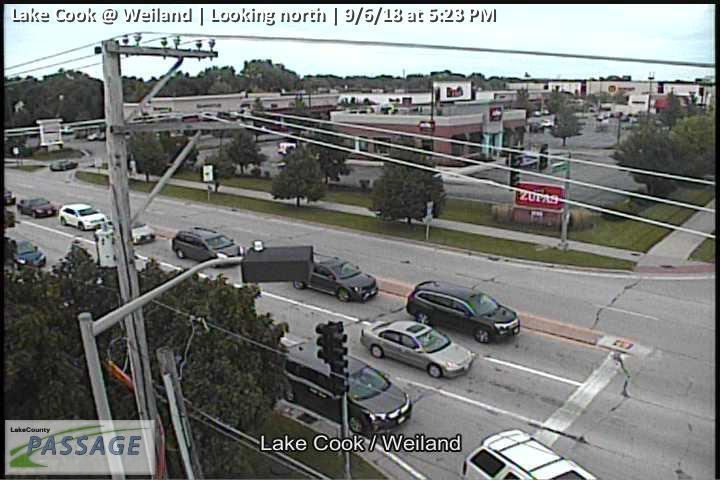SUV: (281, 342, 412, 433), (407, 281, 521, 344), (461, 428, 597, 480), (293, 256, 378, 303), (172, 227, 244, 264), (59, 203, 108, 230)
Sedan: (361, 320, 474, 378), (95, 217, 154, 244), (9, 239, 45, 268), (16, 196, 56, 218), (50, 158, 77, 171)
